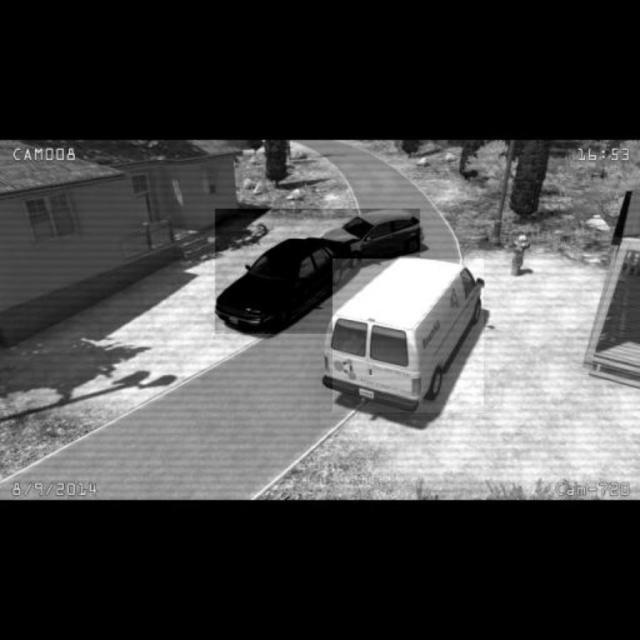accident: (214, 209, 420, 333)
vehicle: (333, 259, 484, 413)
